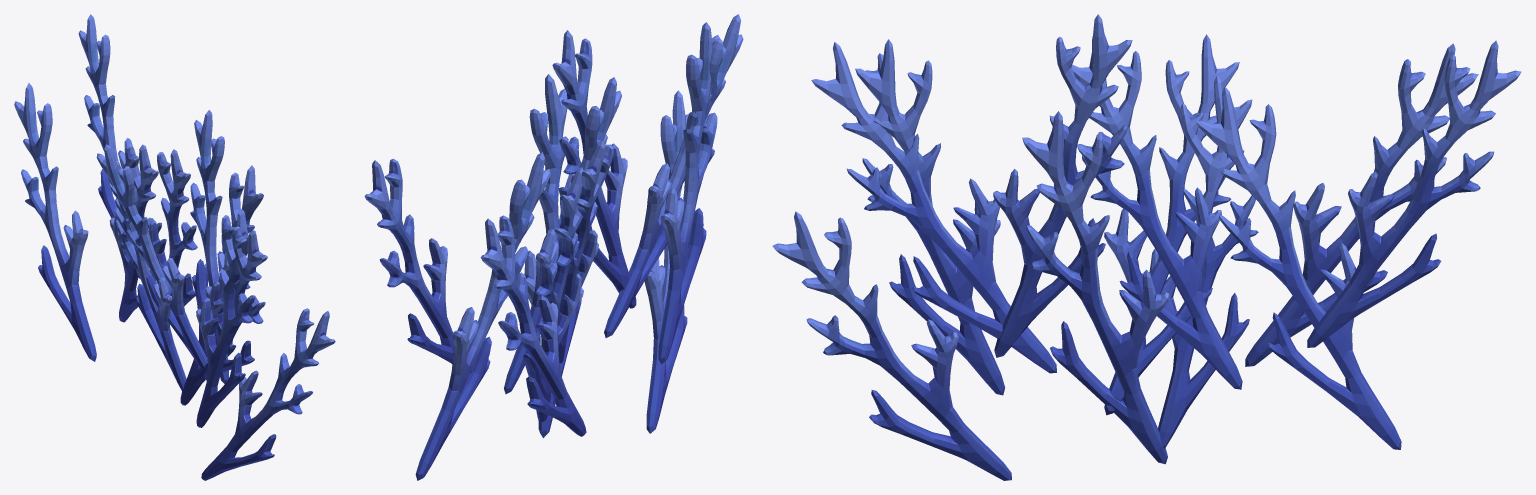
File: bluecoral1.glb
3 renders of one model, left to right at view 1: azimuth 30°, elevation 25°; view 2: azimuth 150°, elevation 25°; view 3: azimuth 270°, elevation 25°, orthographic. The views are drawn at different scales.
Visible parts, largest first — view 1: Plane.003; view 2: Plane.003; view 3: Plane.003.
Part boxes in pixels (x1,y1,x2,y2): Plane.003: [14, 14, 335, 480]; Plane.003: [364, 14, 743, 480]; Plane.003: [772, 14, 1521, 480].
Size of the model in its own units: 7.31 by 22.41 by 30.91.
Materials: 1 (1 with a texture image).
